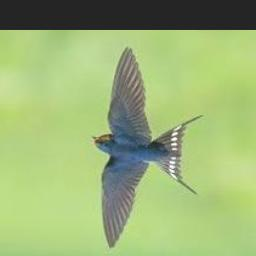Swallow: (91, 46, 204, 248)
